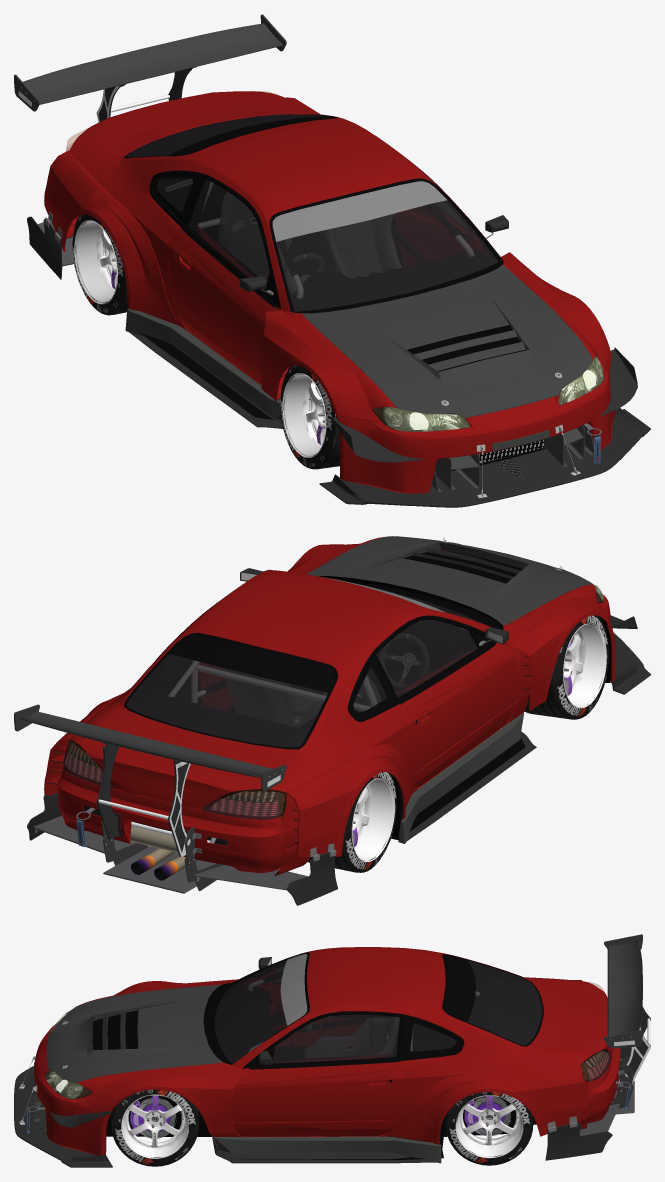
3 views of the same model, one above another, from view 1: azimuth 30°, elevation 25°; view 2: azimuth 150°, elevation 25°; view 3: azimuth 270°, elevation 25° (orthographic). The views are drawn at different scales.
Parts seen in each view (by area): view 1: Mesh2_trimbl_0, Mesh1_window_0, Mesh13_cf_0, Mesh277_generic_tyre1_0, Mesh59_hlmat_0; view 2: Mesh2_trimbl_0, Mesh1_window_0, Mesh13_cf_0, Mesh277_generic_tyre1_0, Mesh52_tl1_0, Mesh277_generic_tread1_0, Mesh53_rev_0; view 3: Mesh2_trimbl_0, Mesh1_window_0, Mesh13_cf_0, Mesh277_generic_tyre1_0, Mesh283_rotor_face2_0, Mesh59_hlmat_0, Mesh284_calip_0, Mesh277_generic_tread1_0.
Part boxes in pixels (x1,y1,x2,y2): Mesh2_trimbl_0: (14, 14, 615, 498); Mesh1_window_0: (65, 91, 603, 431); Mesh13_cf_0: (27, 215, 650, 507); Mesh277_generic_tyre1_0: (72, 214, 564, 468); Mesh59_hlmat_0: (373, 355, 604, 431); Mesh2_trimbl_0: (14, 536, 615, 893); Mesh1_window_0: (63, 582, 603, 819); Mesh13_cf_0: (27, 568, 650, 905); Mesh277_generic_tyre1_0: (342, 615, 609, 872); Mesh52_tl1_0: (65, 750, 277, 816); Mesh277_generic_tread1_0: (308, 566, 606, 872); Mesh53_rev_0: (69, 742, 278, 802); Mesh2_trimbl_0: (19, 934, 650, 1163); Mesh1_window_0: (45, 960, 610, 1098); Mesh13_cf_0: (14, 957, 619, 1167); Mesh277_generic_tyre1_0: (112, 1089, 532, 1166); Mesh283_rotor_face2_0: (139, 1096, 510, 1138); Mesh59_hlmat_0: (45, 1012, 91, 1098); Mesh284_calip_0: (130, 1100, 475, 1135); Mesh277_generic_tread1_0: (111, 1102, 533, 1166).
Bounding box in the file's own units: 338 × 191 × 769.
19 materials, 19 textured.
